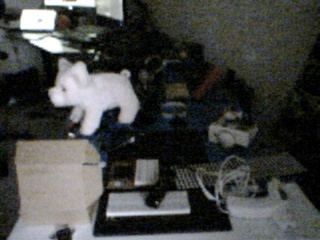piggy: (46, 55, 143, 137)
